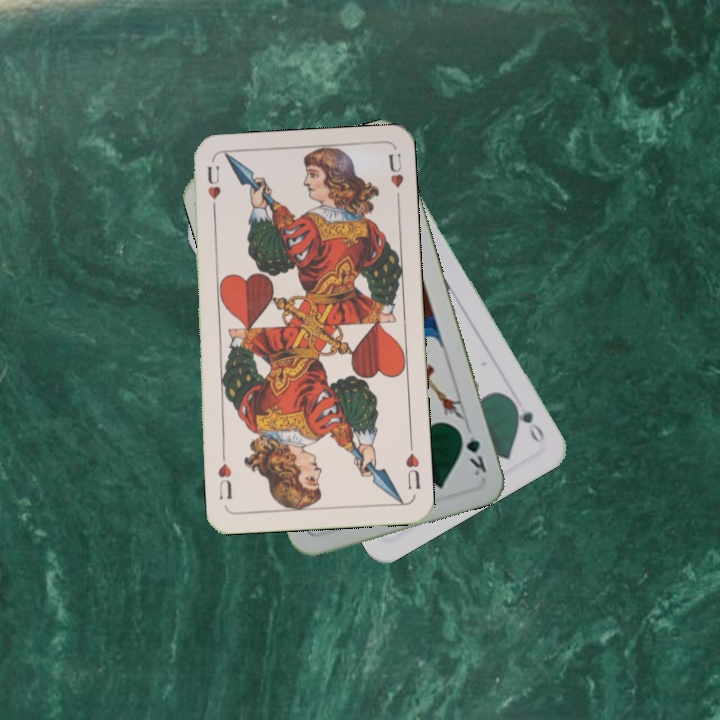GK: (455, 425, 490, 479)
GO: (506, 395, 548, 446)
HU: (401, 439, 423, 492), (203, 162, 223, 218)
